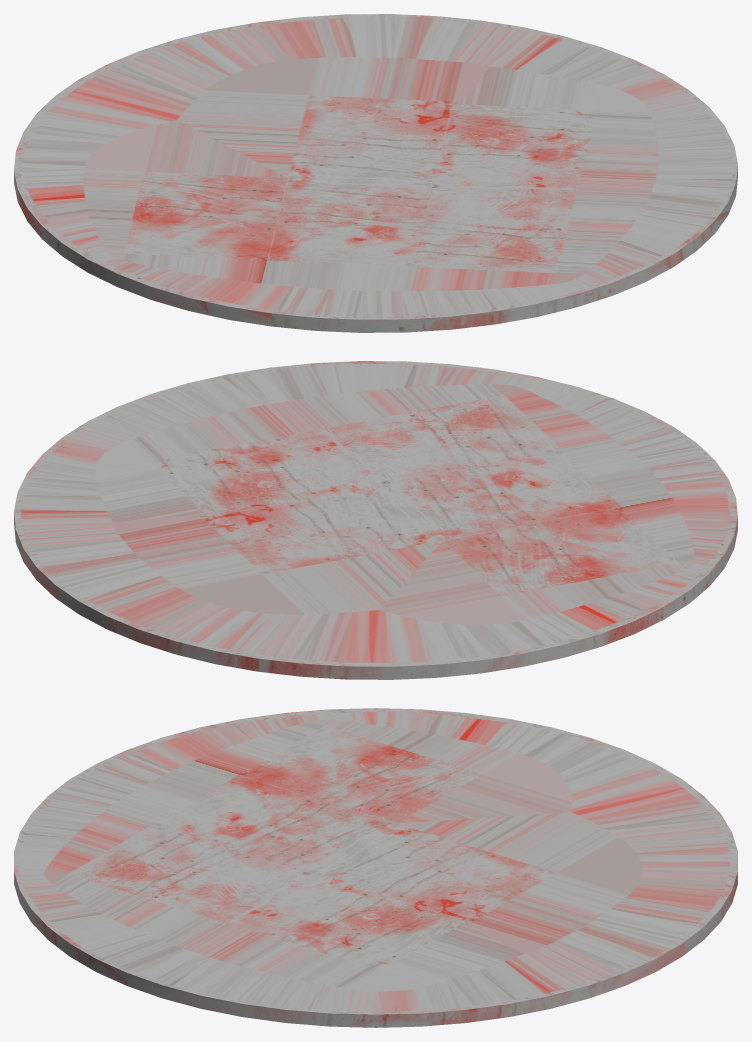
File: Central Hub Floor.fbx
3 views of the same model, one above another, from view 1: azimuth 30°, elevation 25°; view 2: azimuth 150°, elevation 25°; view 3: azimuth 270°, elevation 25° (orthographic).
Parts seen in each view (by area): view 1: Cylinder; view 2: Cylinder; view 3: Cylinder.
Boxes of the visible parts, bbox=[...] form: Cylinder: bbox=[14, 14, 737, 332]; Cylinder: bbox=[14, 361, 737, 679]; Cylinder: bbox=[14, 708, 737, 1027].
Size of the model in its own units: 332 by 6.64 by 332.
Materials: 1 (1 with a texture image).
